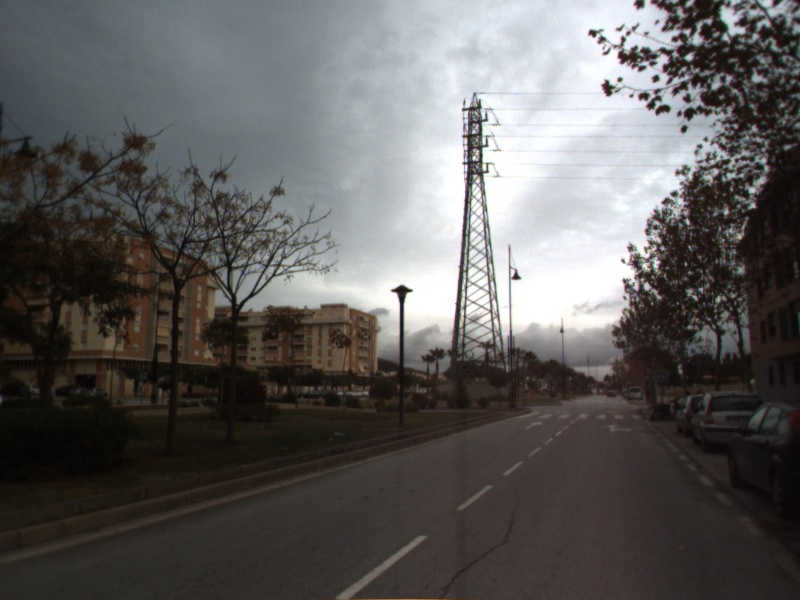STRAIGHT: (523, 419, 545, 431)
STRAIGHT_RIGHT: (603, 422, 636, 435)
